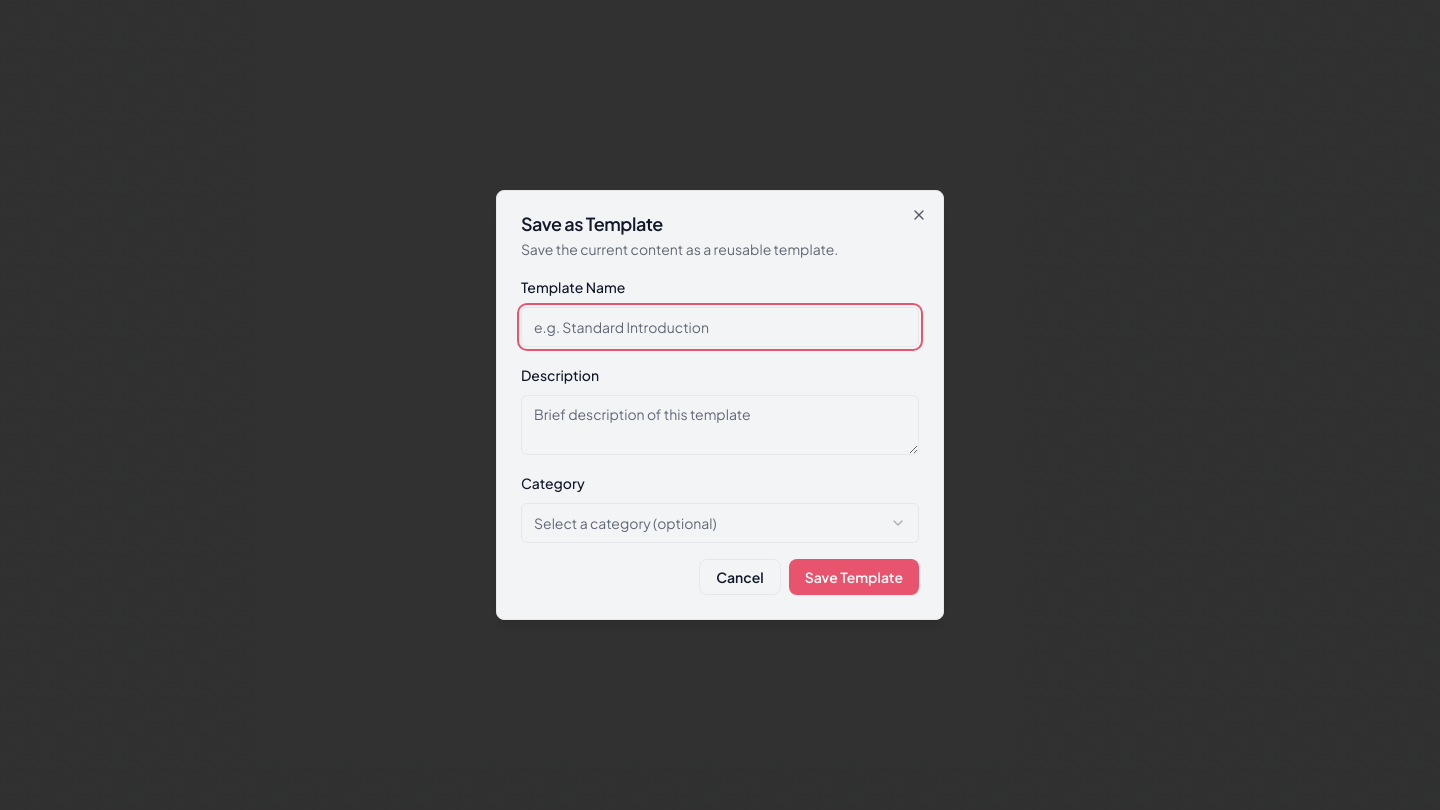
Test: SaveTemplateDialog › requires a template name
The width and height of the screenshot is (1440, 810).
Click the button "Save Template" at (854, 577), box [789, 559, 919, 595]
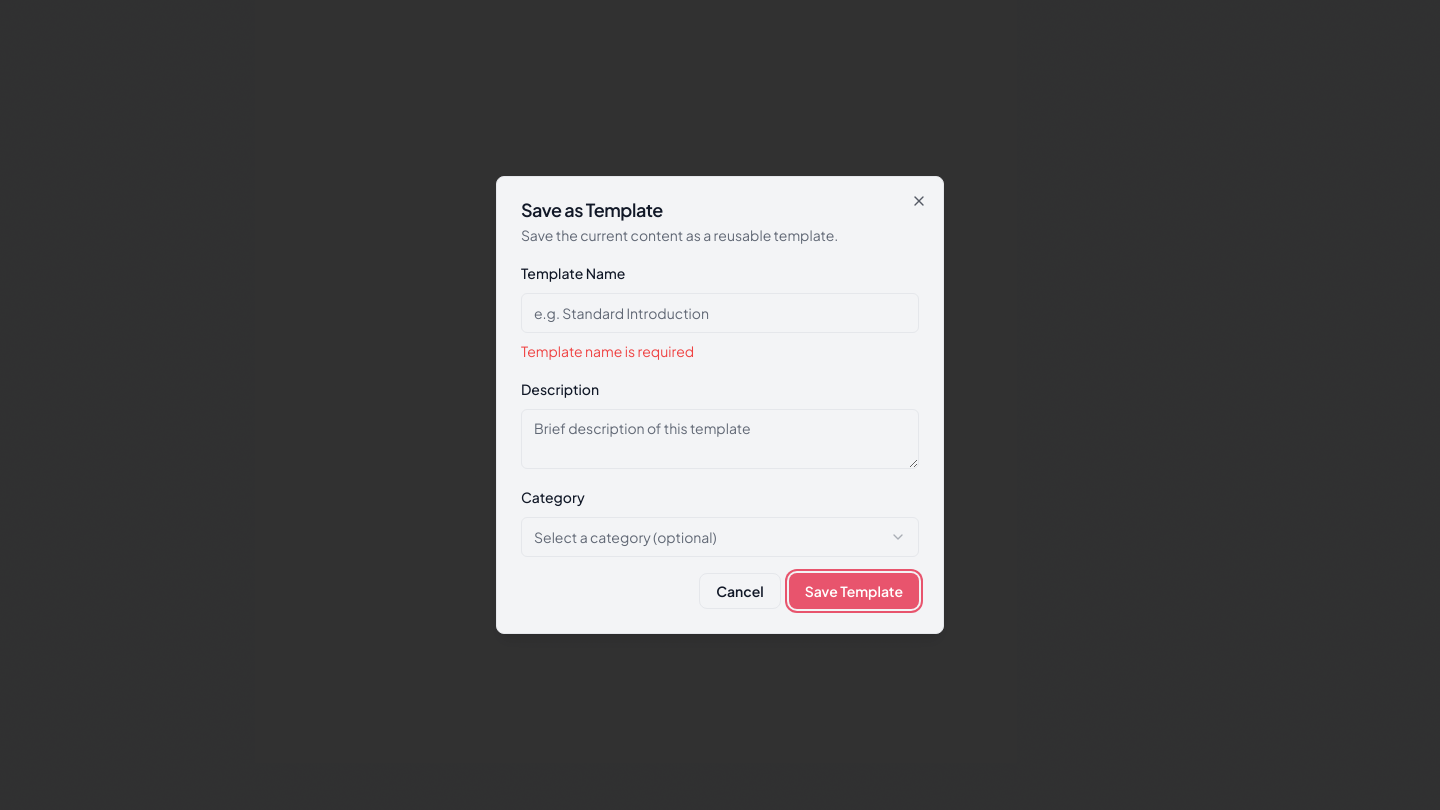
Now the text "Template name is required" is shown, box [521, 342, 694, 360]
